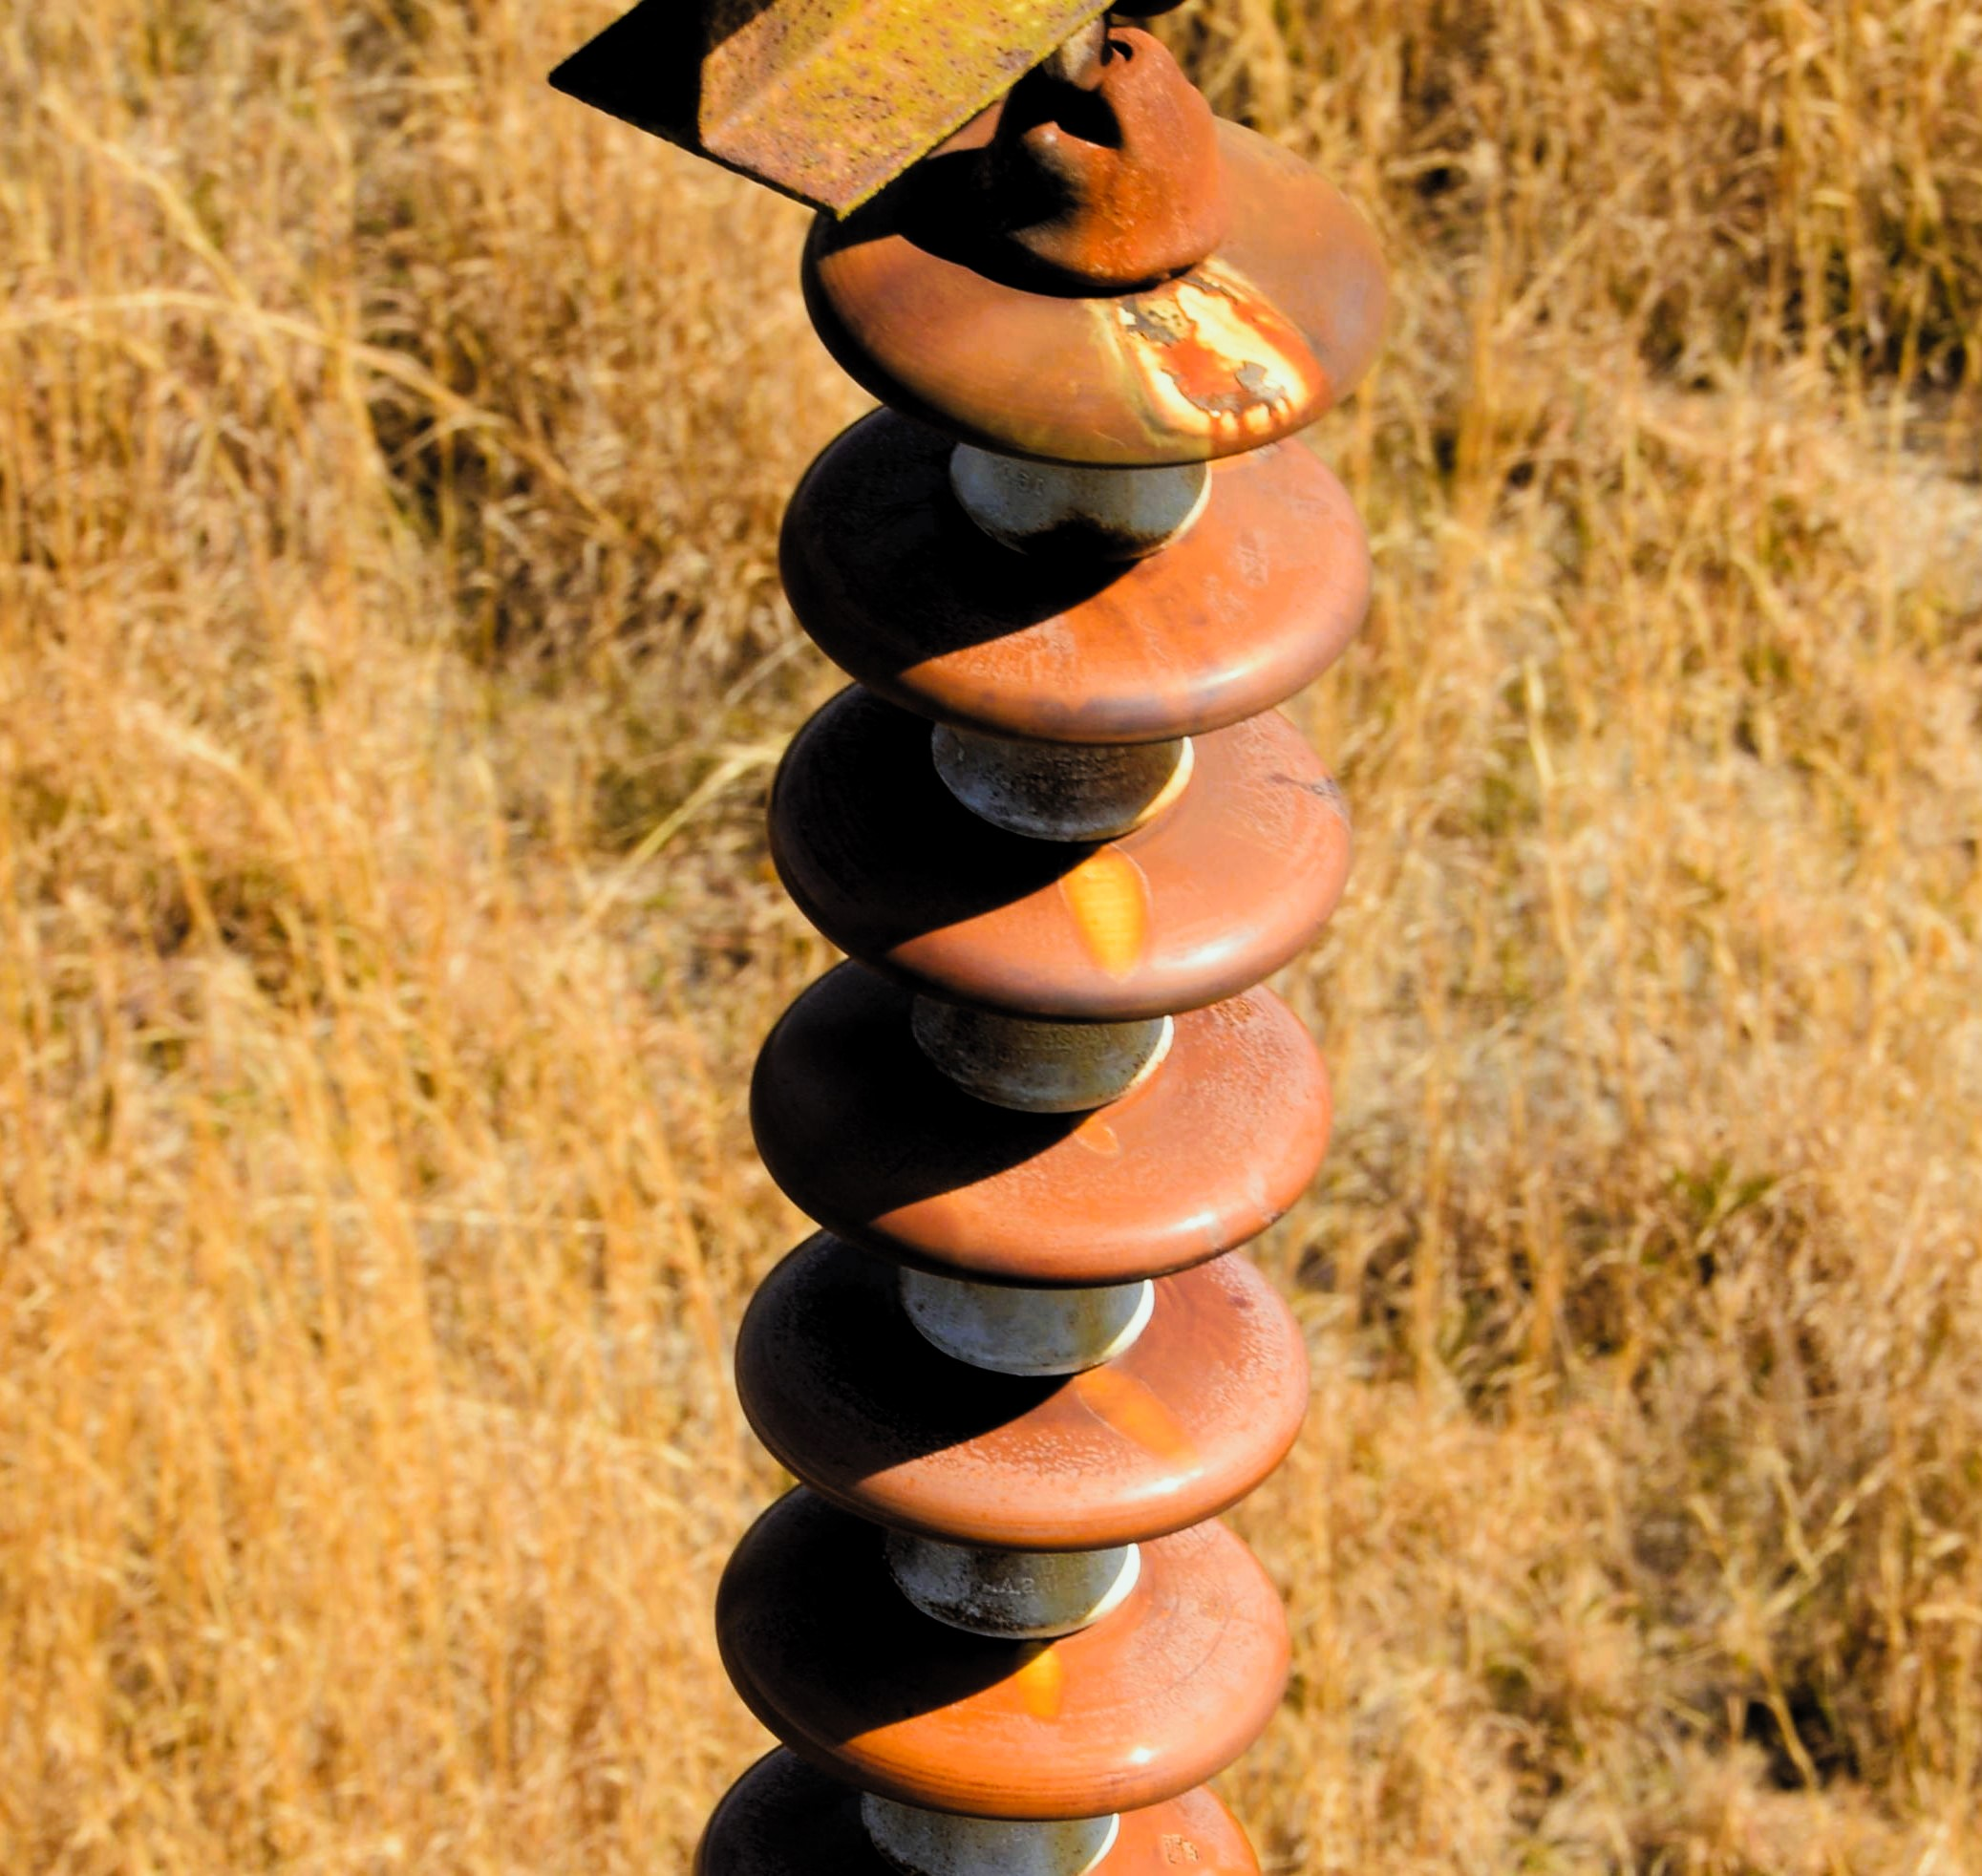Insulator flashover: (785, 86, 1404, 476)
